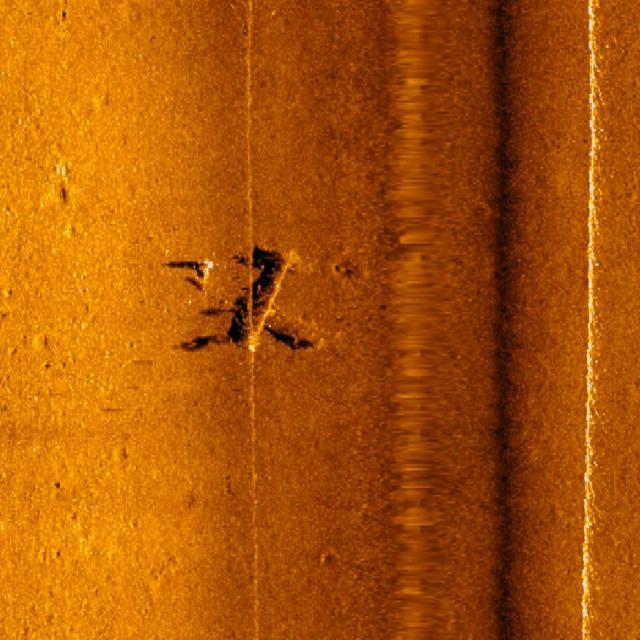plane: (176, 228, 328, 366)
